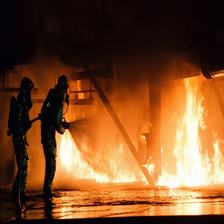fire: (127, 84, 224, 187), (63, 122, 137, 186)
